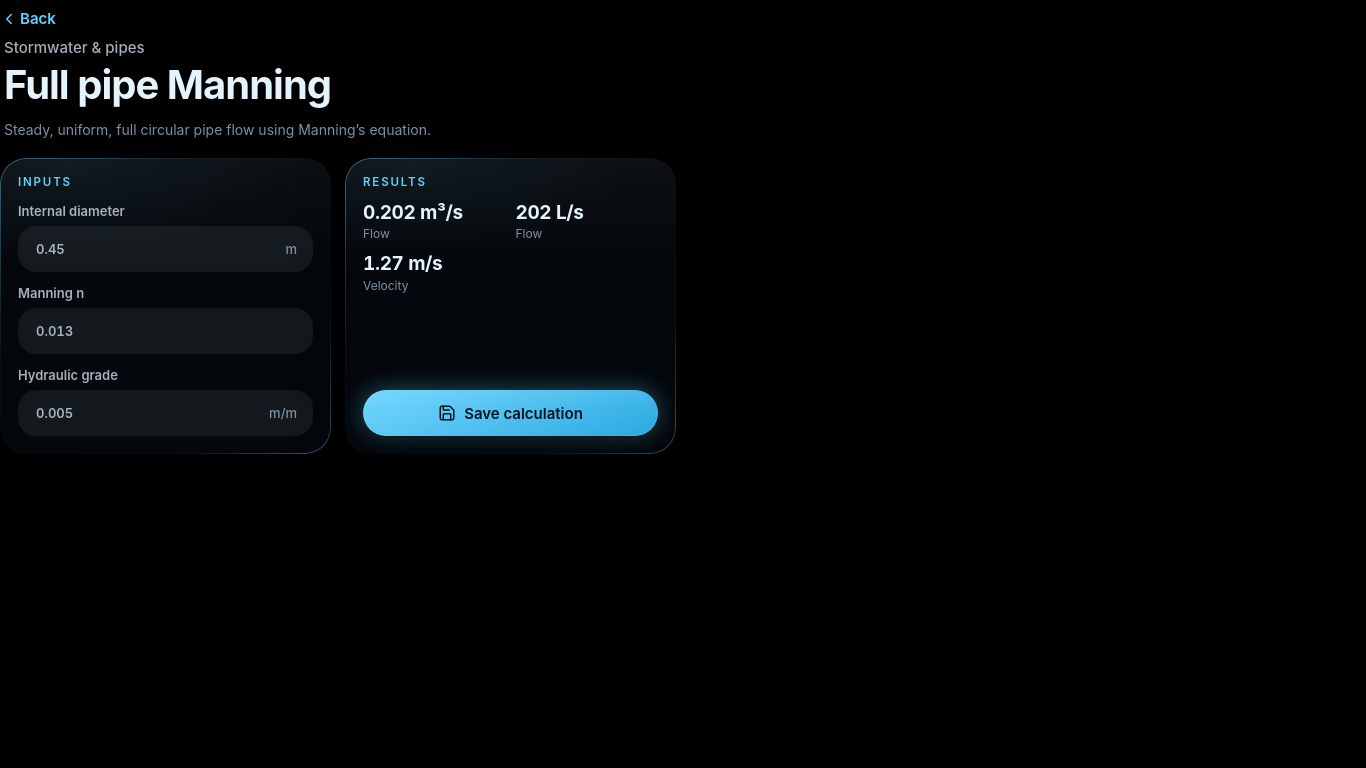
Test case: engineering › computes live and saves a calculation with Flutter-compatible inputs
The width and height of the screenshot is (1366, 768).
Expected: the text "202 L/s" is shown, [516,201,584,224]
Replace the text in the field named "Internal diameter (m)" with "0.6": (166, 249) [18,226,313,272]
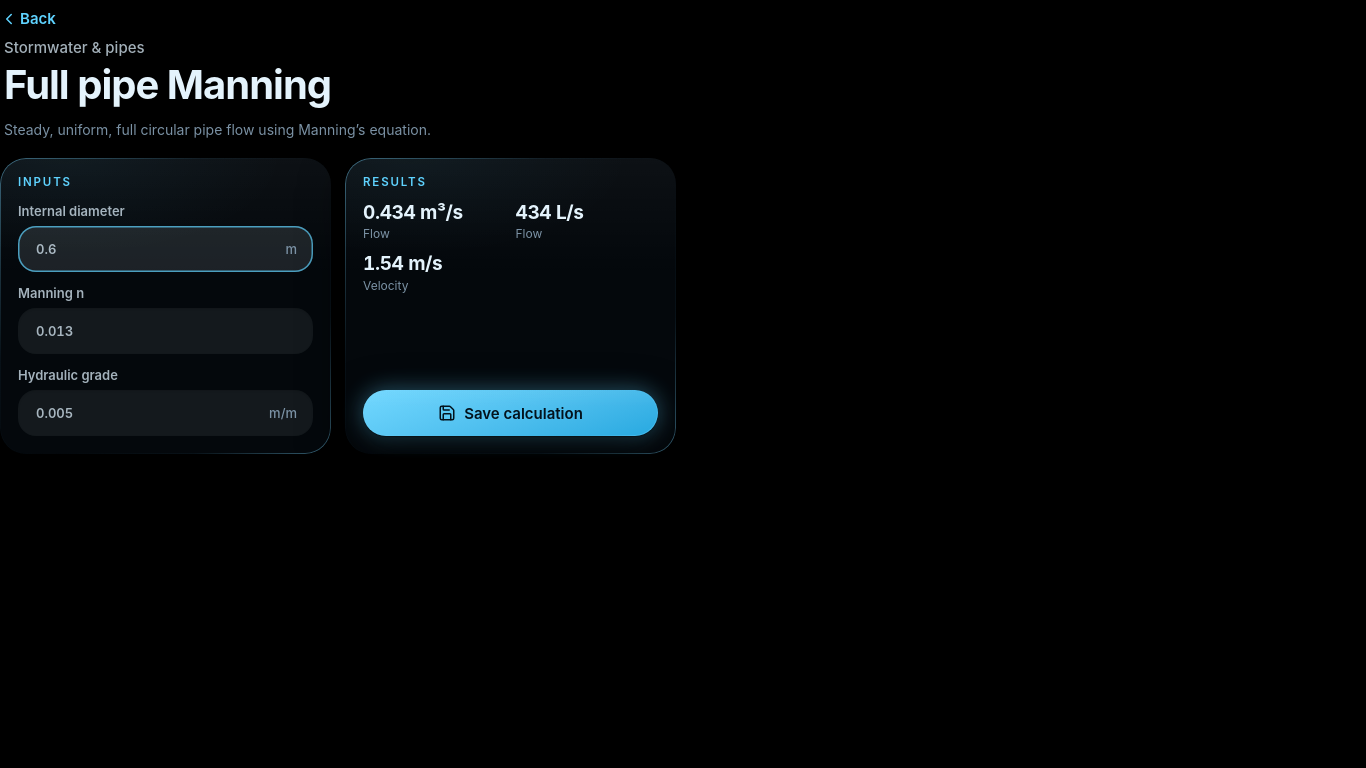
Result: the text "434 L/s" is shown at [516,201,584,224]
Replace the text in the field named "Internal diameter (m)" with "x": (166, 249) [18,226,313,272]
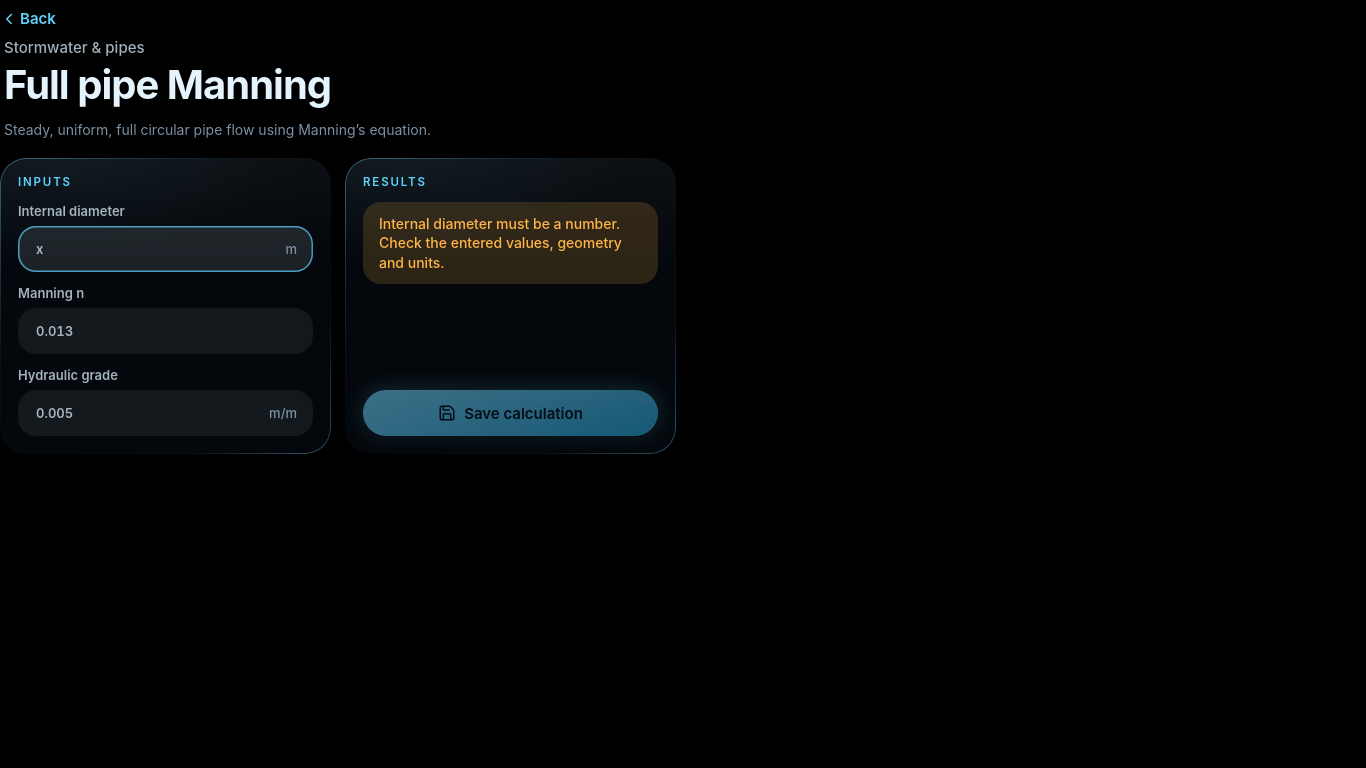
Result: the text "must be a number" is shown at [379,215,616,232]
Replace the text in the field named "Internal diameter (m)" with "0.45": (166, 249) [18,226,313,272]
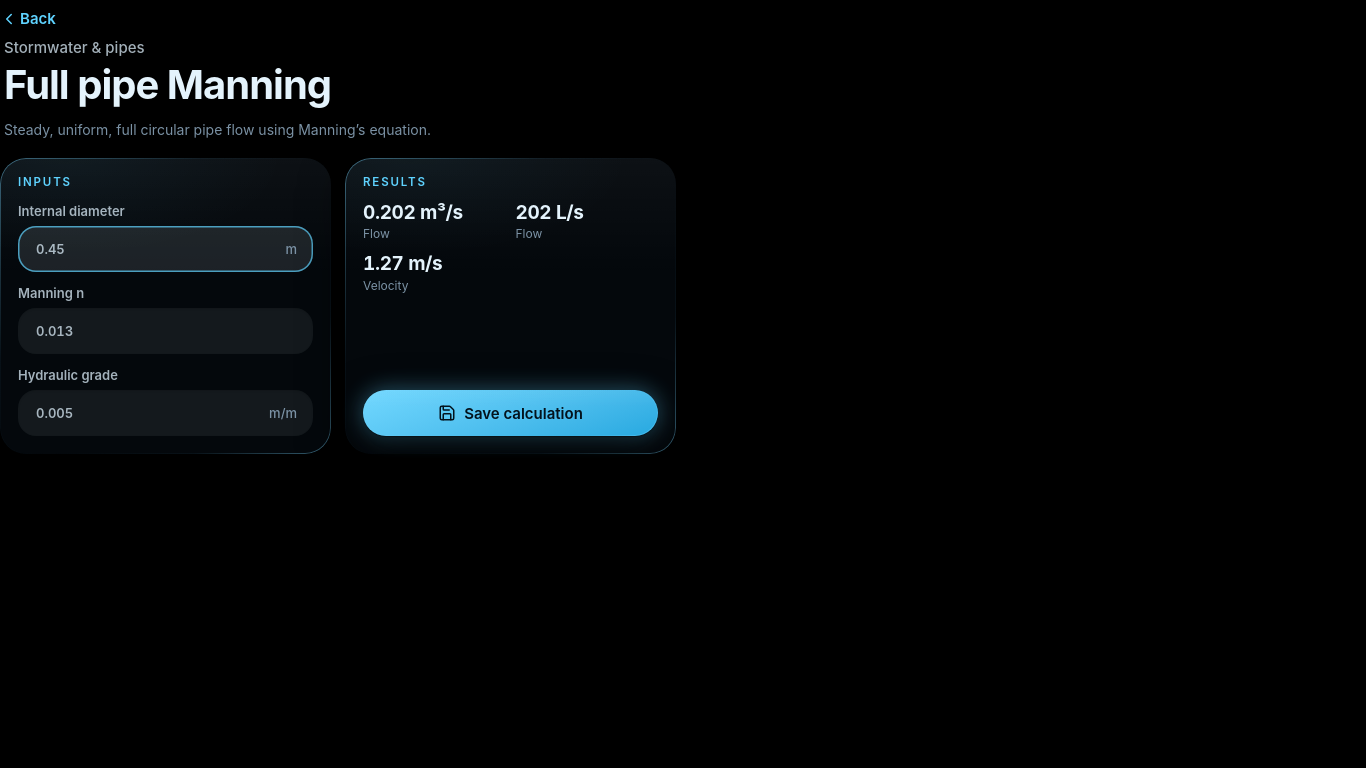
Click the button "Save calculation": (510, 413) [363,390,658,436]
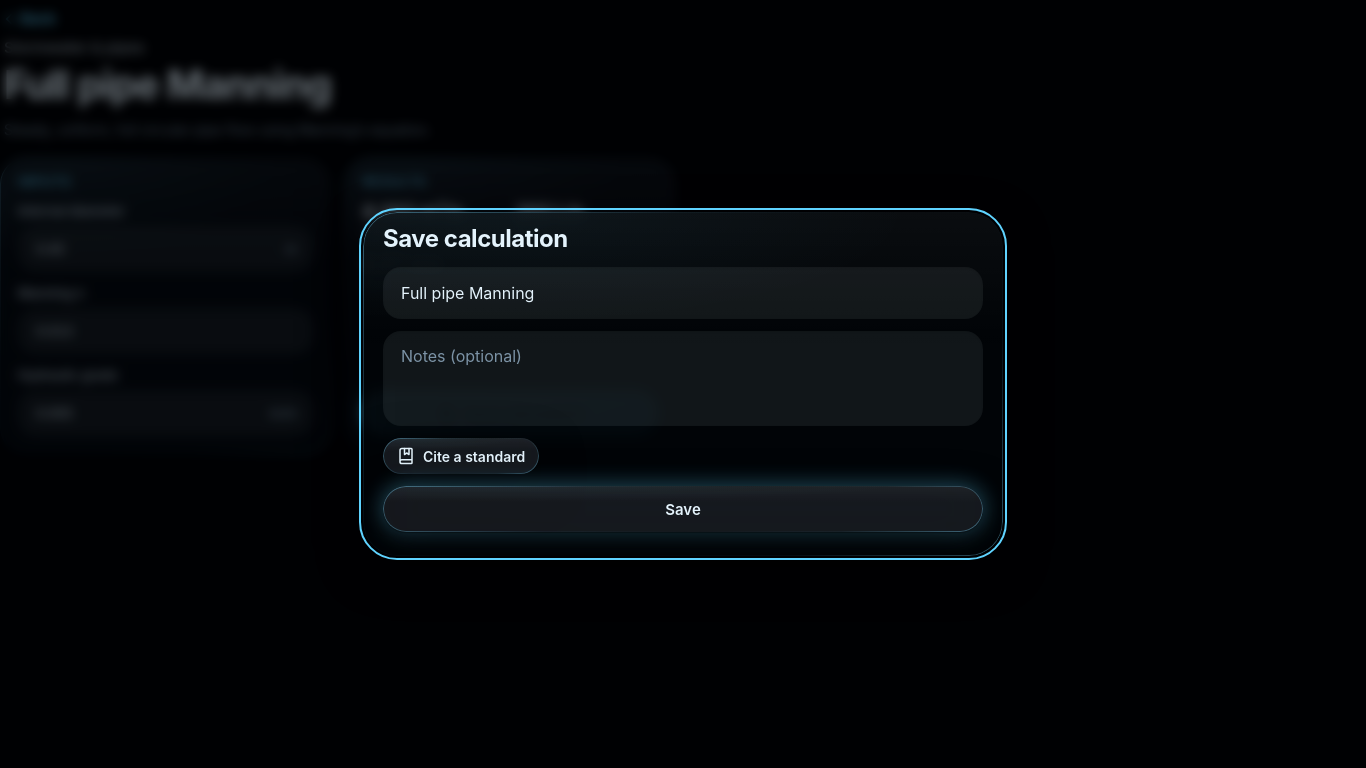
Replace the text in the field named "Title" with "Trunk main check": (683, 293) [383,267,983,319]
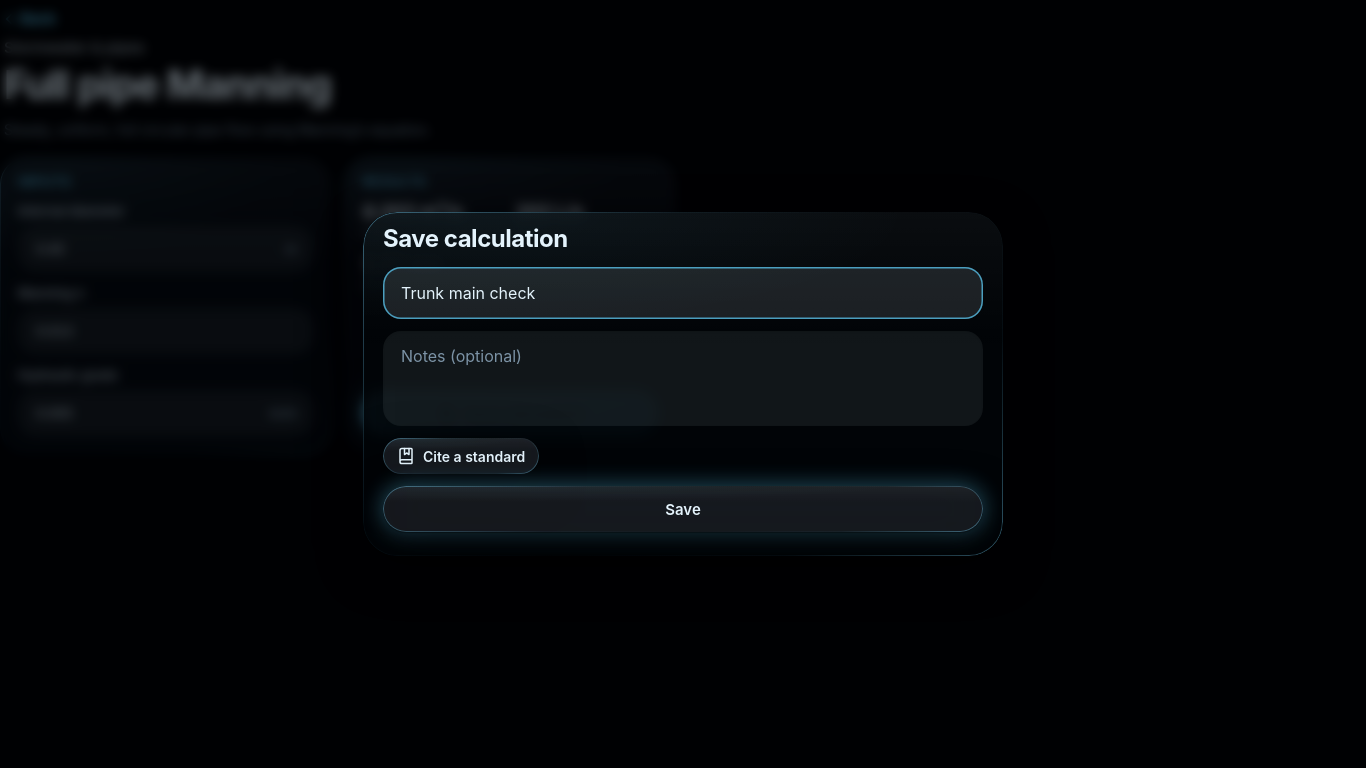
Click the button "Save": (683, 509) [383,486,983,532]
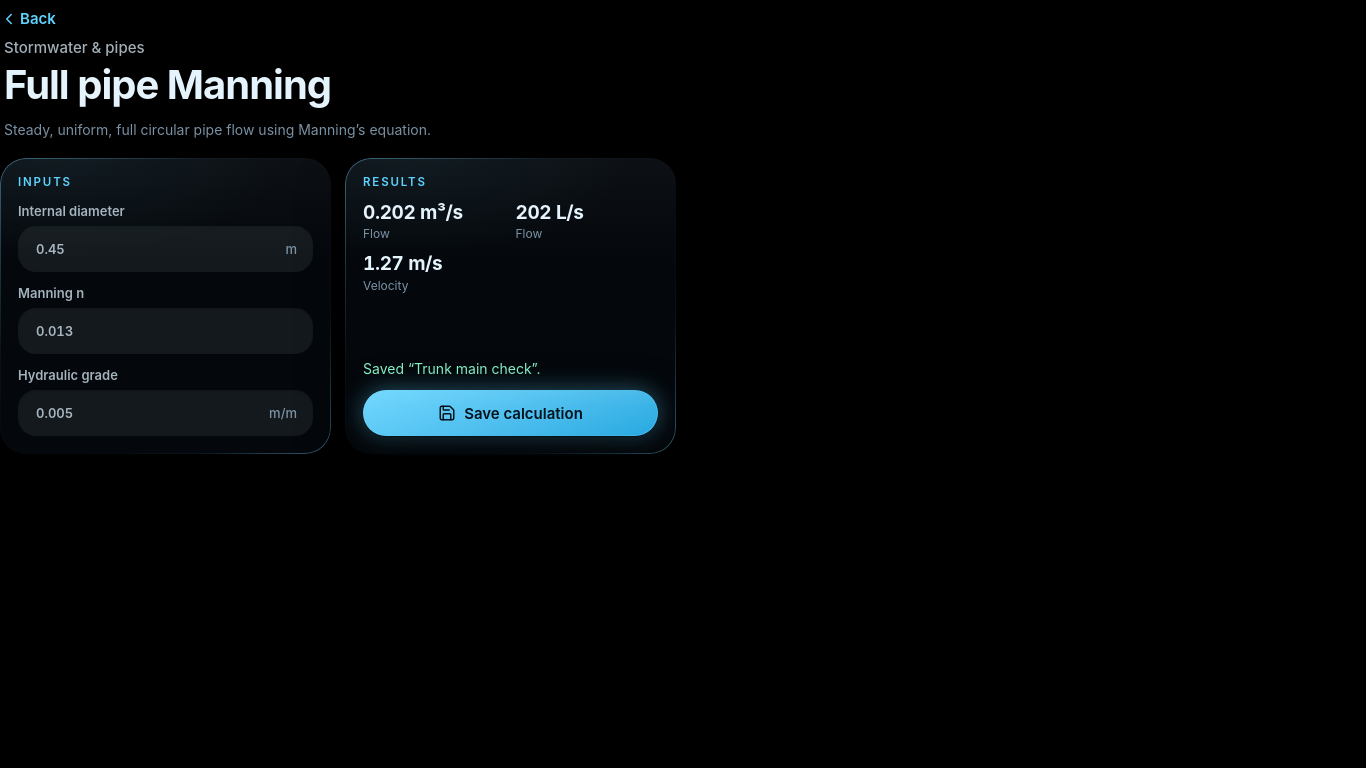
Result: the text "Saved “Trunk main check”." is shown at [363,360,540,377]
